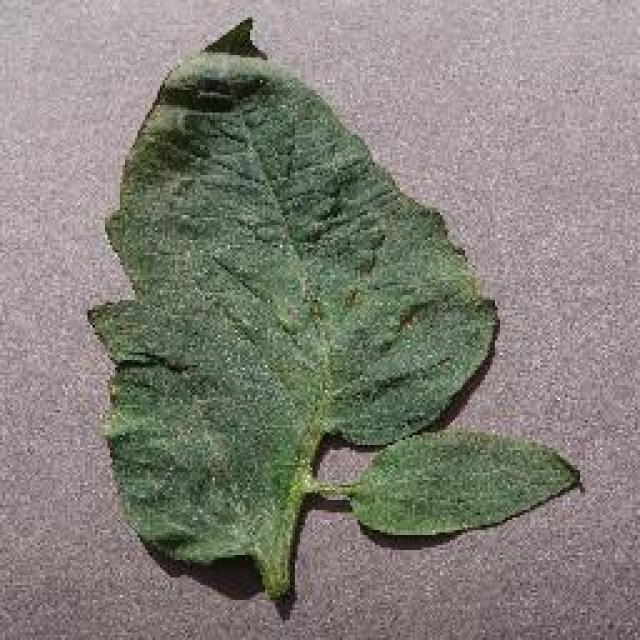Tomato Septoria spot leaf: (90, 15, 502, 567), (354, 430, 584, 542)
